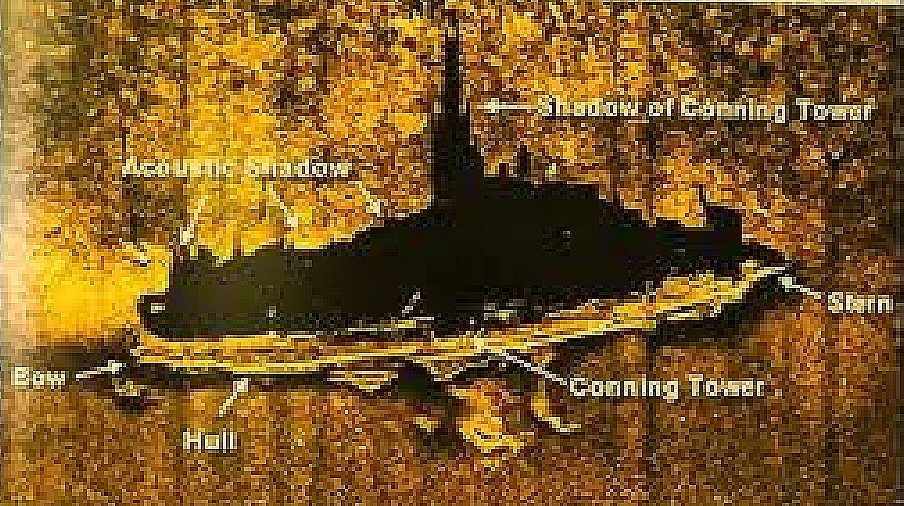ship: (128, 255, 788, 391)
